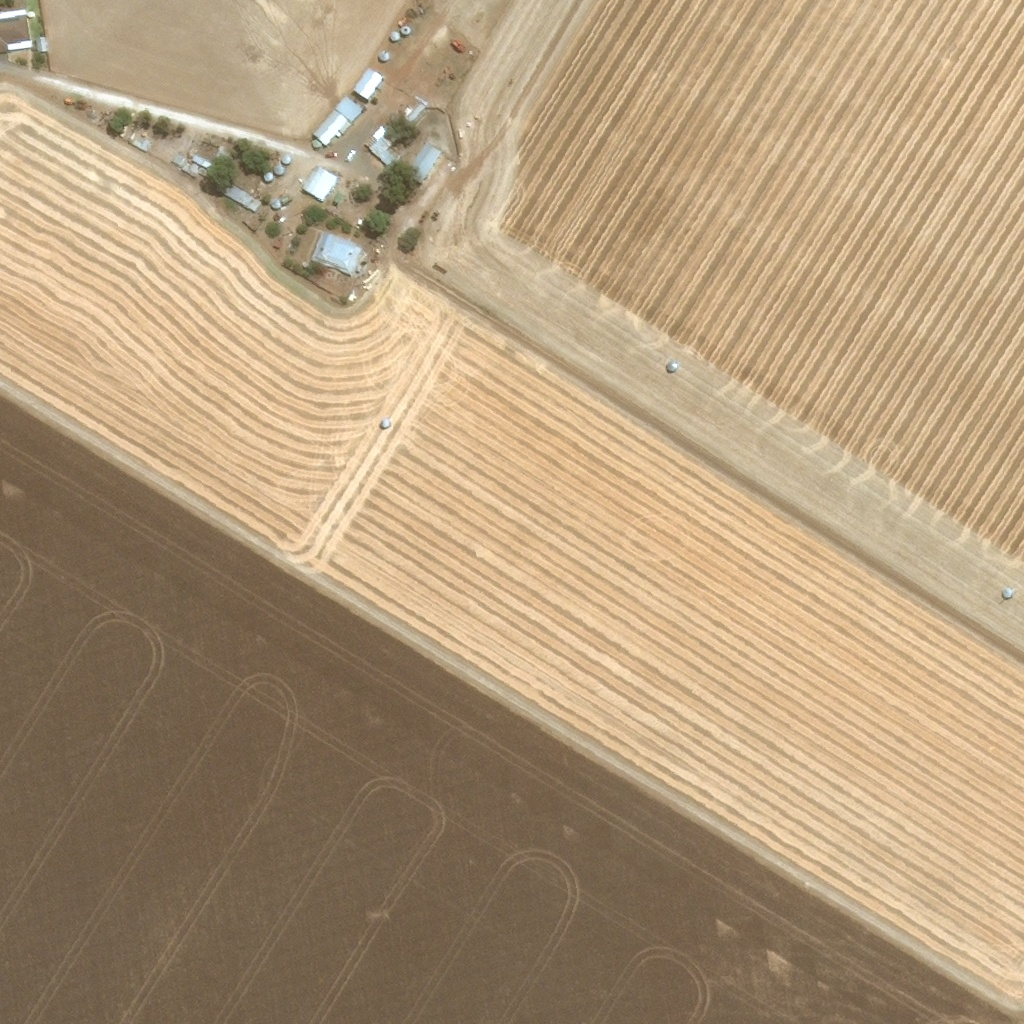0 no-damage: (309, 230, 362, 277), (403, 142, 442, 184), (310, 107, 350, 147), (363, 125, 397, 169), (299, 165, 337, 204), (221, 184, 261, 214), (350, 66, 384, 101), (258, 155, 292, 186), (0, 19, 30, 54), (333, 94, 364, 123), (129, 135, 151, 154), (180, 160, 200, 180), (189, 155, 210, 171), (0, 9, 25, 20), (170, 154, 185, 170), (34, 37, 46, 53), (311, 140, 322, 151), (26, 11, 34, 19)
